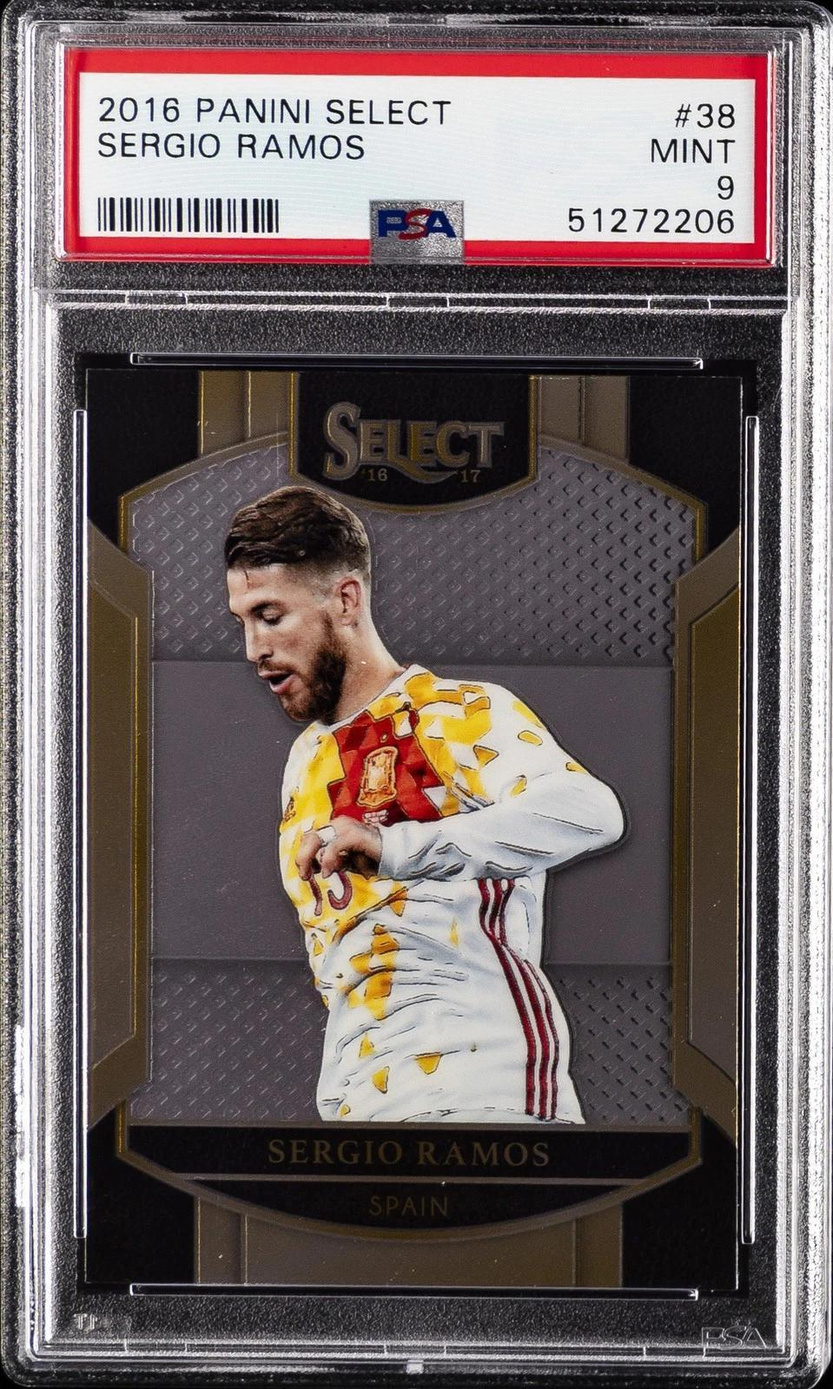card-2UtV: (84, 368, 743, 1292)
